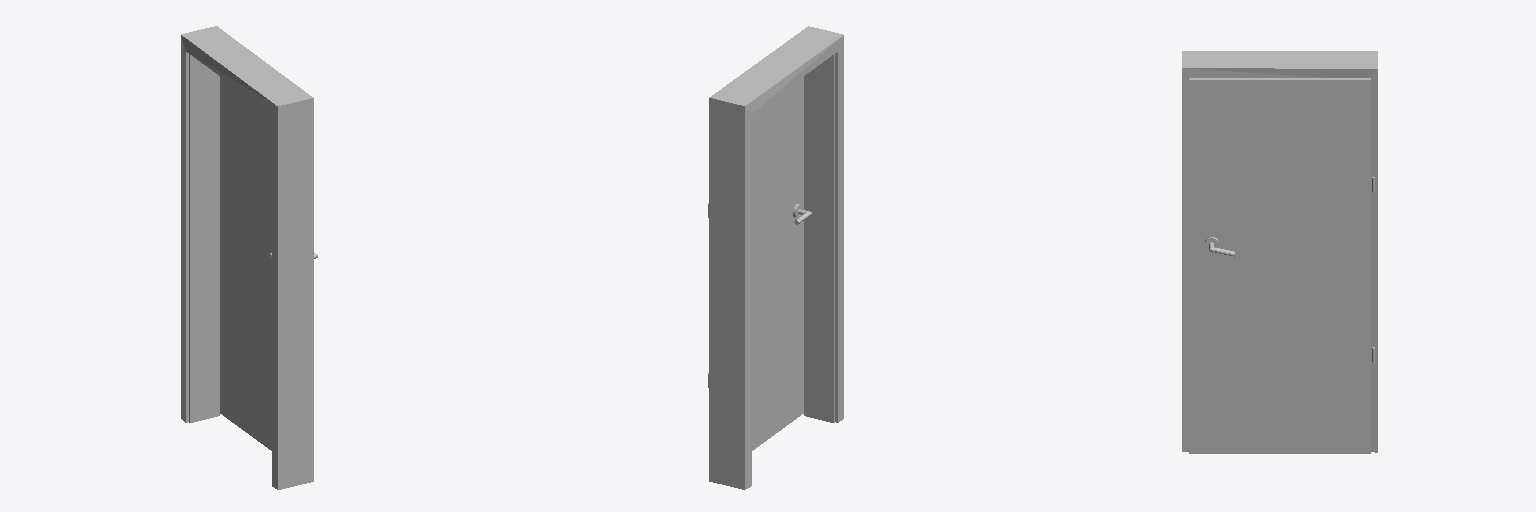
File: door31.obj
The picture shows the model from 3 angles: view 1: azimuth 30°, elevation 25°; view 2: azimuth 150°, elevation 25°; view 3: azimuth 270°, elevation 25°; orthographic projection.
Parts seen in each view (by area): view 1: Cylinder.005, Cylinder.001; view 2: Cylinder.005, Cylinder.001; view 3: Cylinder.001, Cylinder.005.
Boxes of the visible parts, <box> form: Cylinder.005: <box>181,26,313,489</box>; Cylinder.001: <box>220,77,271,450</box>; Cylinder.005: <box>708,26,843,489</box>; Cylinder.001: <box>708,77,803,450</box>; Cylinder.001: <box>1189,78,1374,453</box>; Cylinder.005: <box>1182,51,1377,452</box>.
Bounding box in the file's own units: 0.3039 × 2.05 × 0.95.